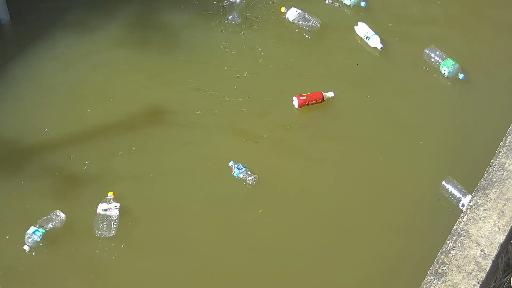plastic: (279, 75, 359, 123), (418, 41, 493, 88), (78, 187, 127, 248), (427, 161, 478, 215), (18, 197, 66, 251), (353, 15, 405, 58), (279, 0, 336, 38), (227, 157, 266, 195), (215, 0, 253, 26), (321, 0, 373, 13)
